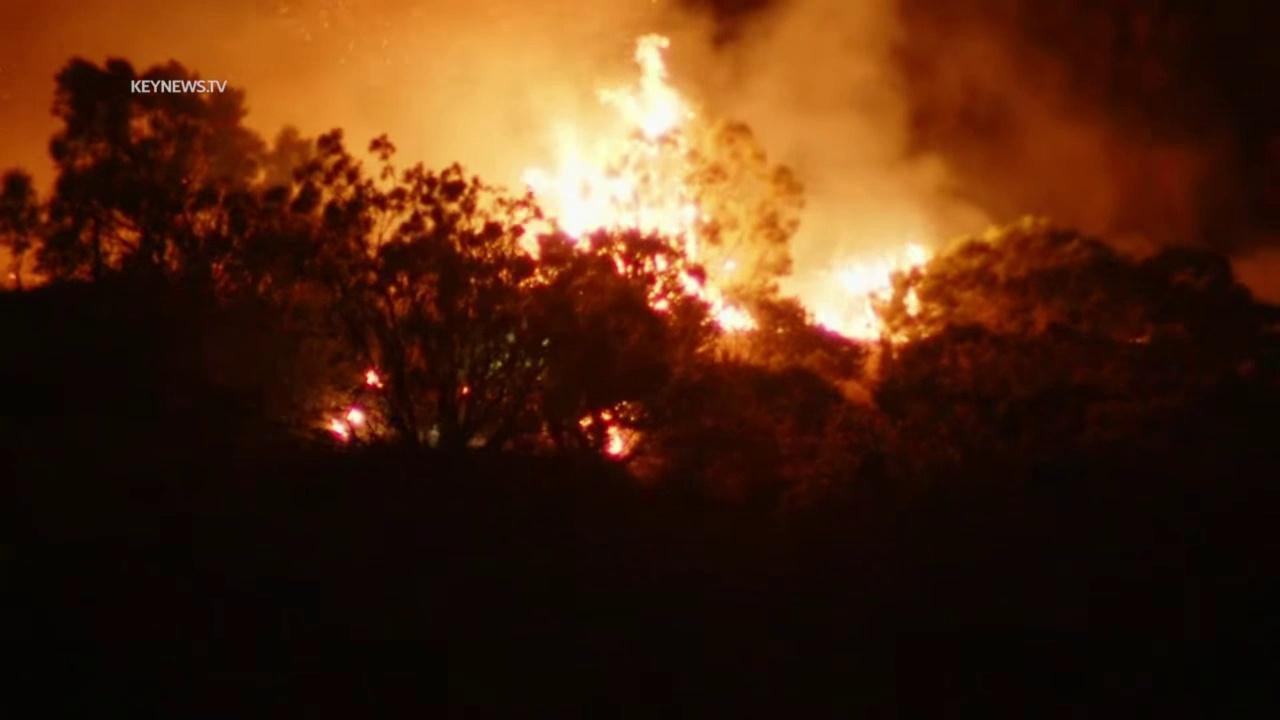fire: (511, 34, 762, 339), (804, 242, 935, 345), (325, 407, 368, 447), (600, 424, 627, 459), (358, 367, 386, 388), (458, 384, 470, 397)
smoke: (0, 0, 1280, 303)
